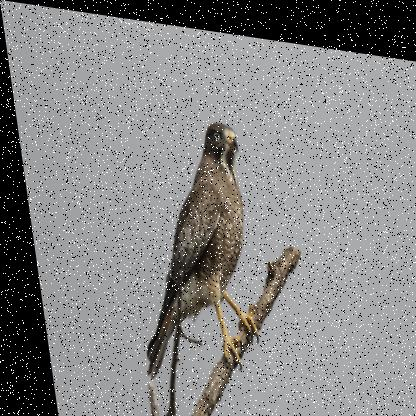Burung: (107, 101, 265, 387)
